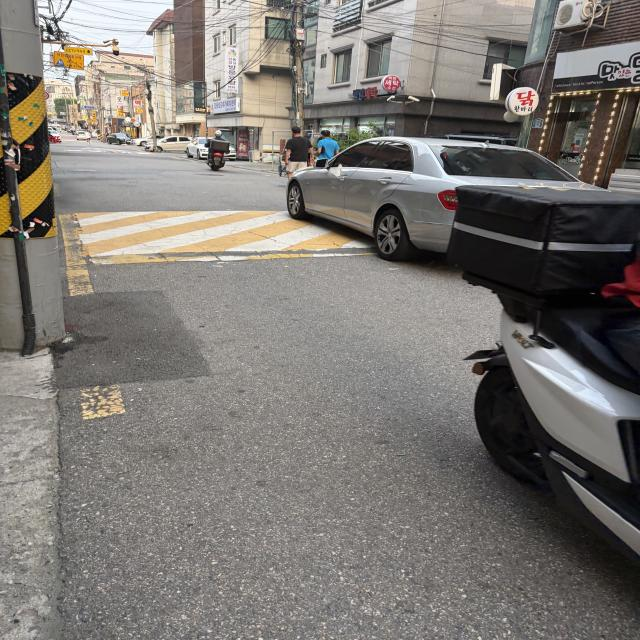car: (266, 117, 618, 289), (182, 131, 242, 165), (139, 131, 203, 155)
motorcycle: (450, 162, 640, 612)
